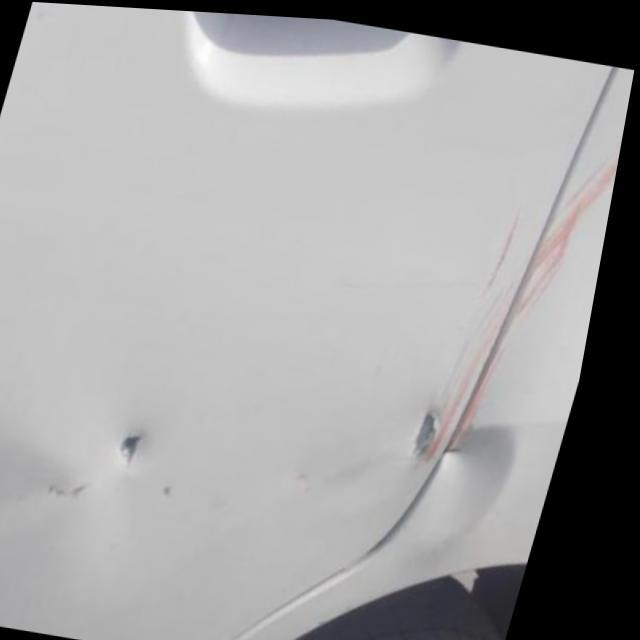crack: (118, 411, 179, 477), (420, 392, 463, 469), (53, 471, 114, 505)
dent: (171, 473, 197, 504)
scratch: (439, 137, 625, 473)
